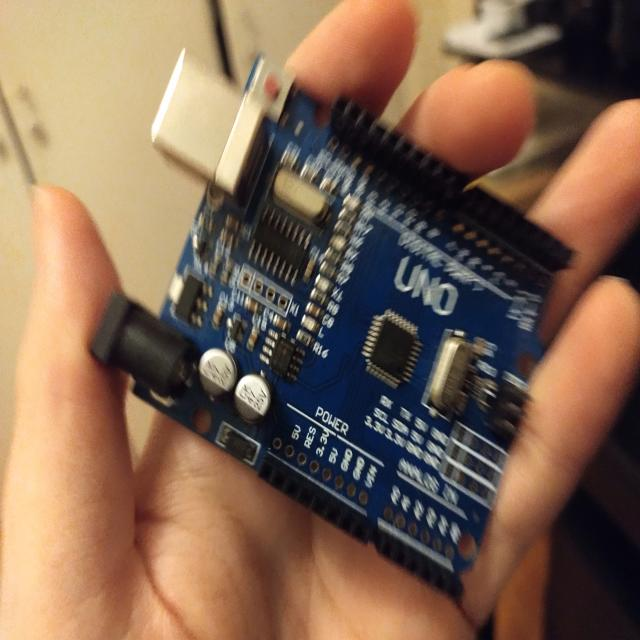arduino: (104, 45, 582, 603)
